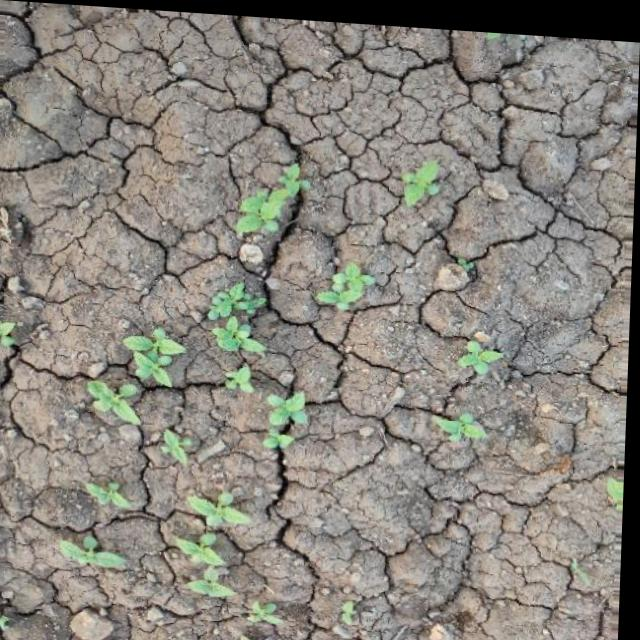crop: (85, 311, 189, 429), (171, 481, 260, 608), (234, 146, 315, 233), (207, 305, 259, 392), (52, 524, 134, 578), (317, 249, 379, 310), (261, 382, 313, 452), (400, 144, 445, 202), (460, 324, 506, 376), (85, 468, 136, 513), (436, 400, 493, 440)
